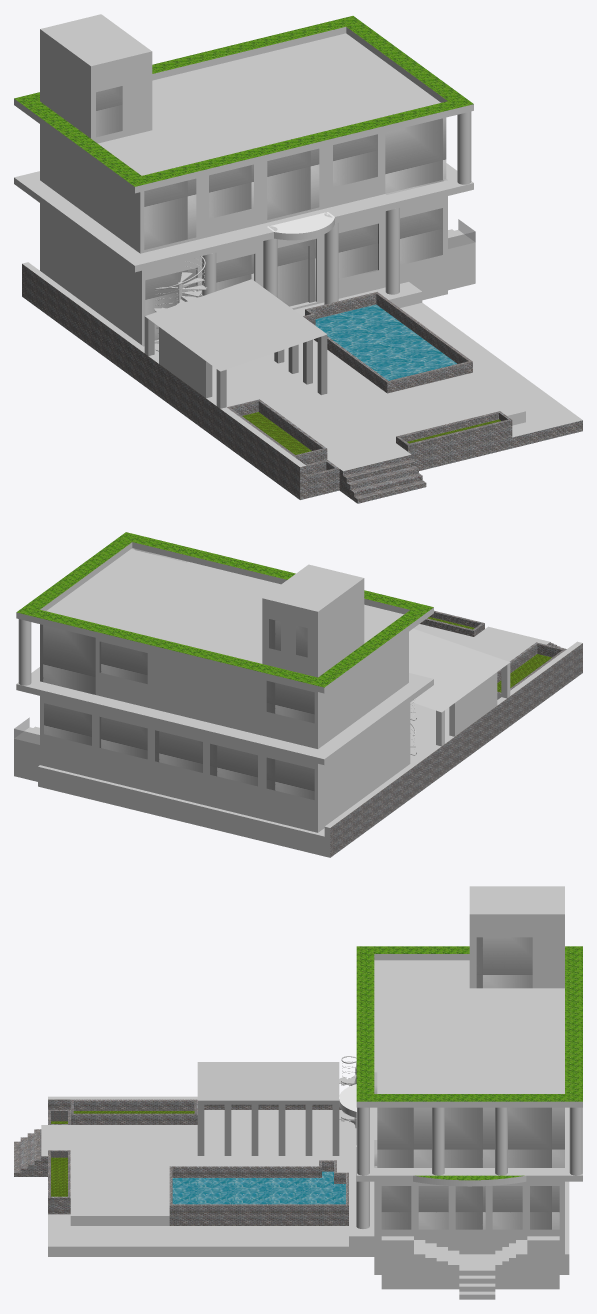
The model's file is villa2.glb.
3 views of the same model, one above another, from view 1: azimuth 30°, elevation 25°; view 2: azimuth 150°, elevation 25°; view 3: azimuth 270°, elevation 25° (orthographic). The views are drawn at different scales.
Visible parts, largest first — view 1: _G-Object.026 (Loose Mesh); view 2: _G-Object.026 (Loose Mesh); view 3: _G-Object.026 (Loose Mesh).
Boxes of the visible parts, left/top/right/bottom form: _G-Object.026 (Loose Mesh): left=14, top=14, right=582, bottom=503; _G-Object.026 (Loose Mesh): left=14, top=532, right=582, bottom=857; _G-Object.026 (Loose Mesh): left=14, top=886, right=582, bottom=1299.
Size of the model in its own units: 18 by 12.1 by 25.1.
10 materials, 6 textured.
